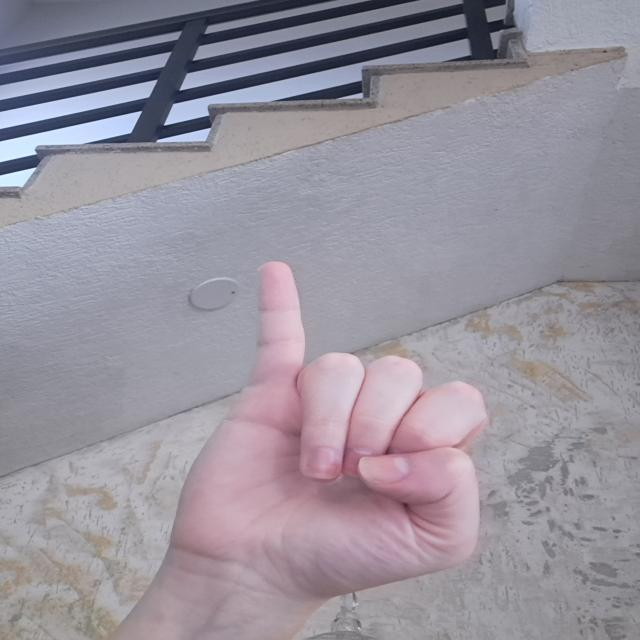I: (157, 257, 494, 604)
